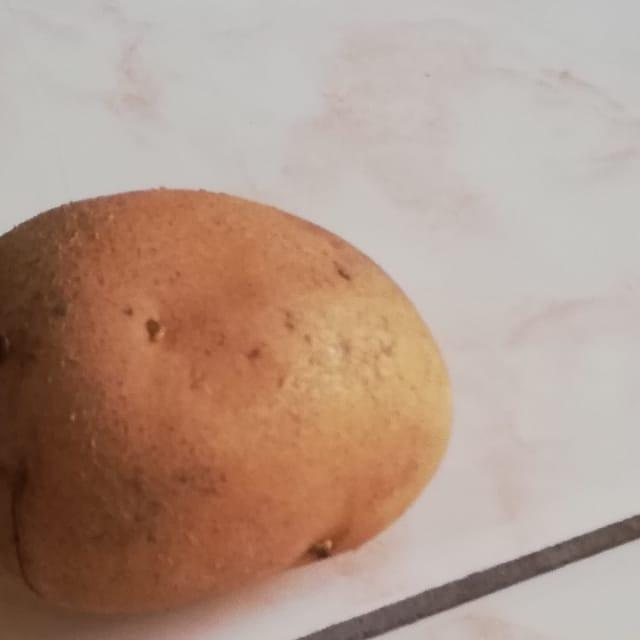potato: (0, 172, 475, 625)
